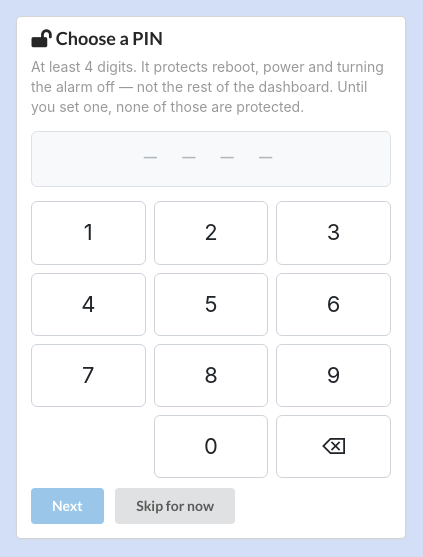
Test: setting a PIN with no keyboard › Next is refused below four digits
Expected: the text "Choose a PIN" is shown, x1=31 y1=27 x2=163 y2=49
Click the button "8" at (211, 376), box x1=154 y1=344 x2=268 y2=407
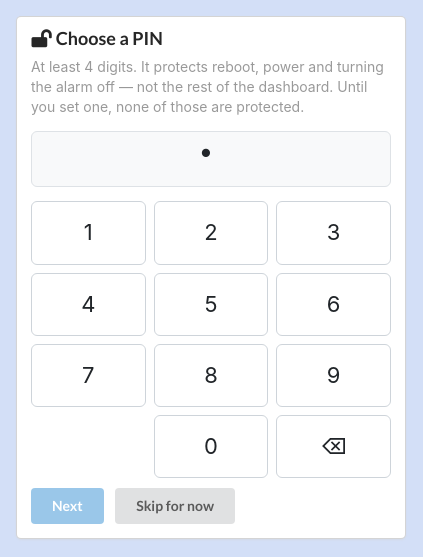
Click the button "4" at (88, 304), box x1=31 y1=273 x2=146 y2=336
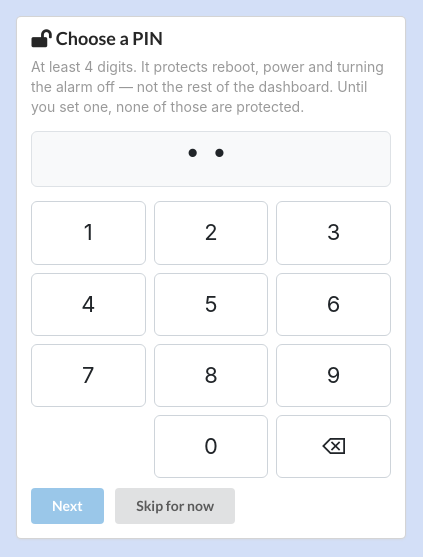
Expected: the button "Next" is disabled, x1=31 y1=488 x2=104 y2=524
Click the button "7" at (88, 376), box x1=31 y1=344 x2=146 y2=407
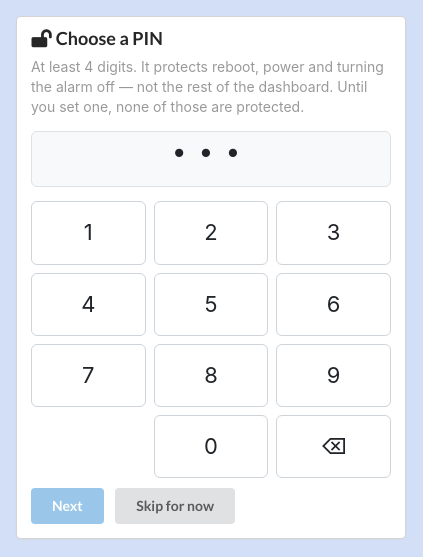
Click the button "1" at (88, 233), box x1=31 y1=201 x2=146 y2=265
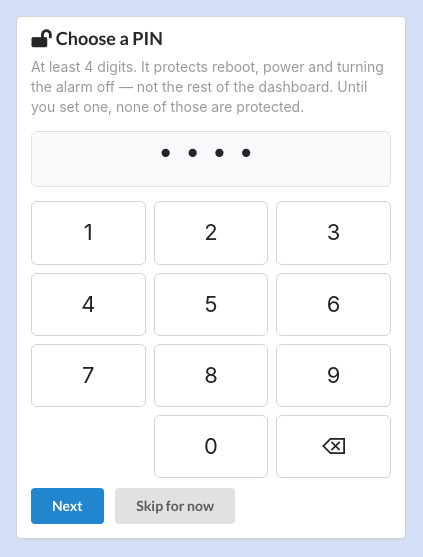
Result: the button "Next" is enabled at x1=31 y1=488 x2=104 y2=524
